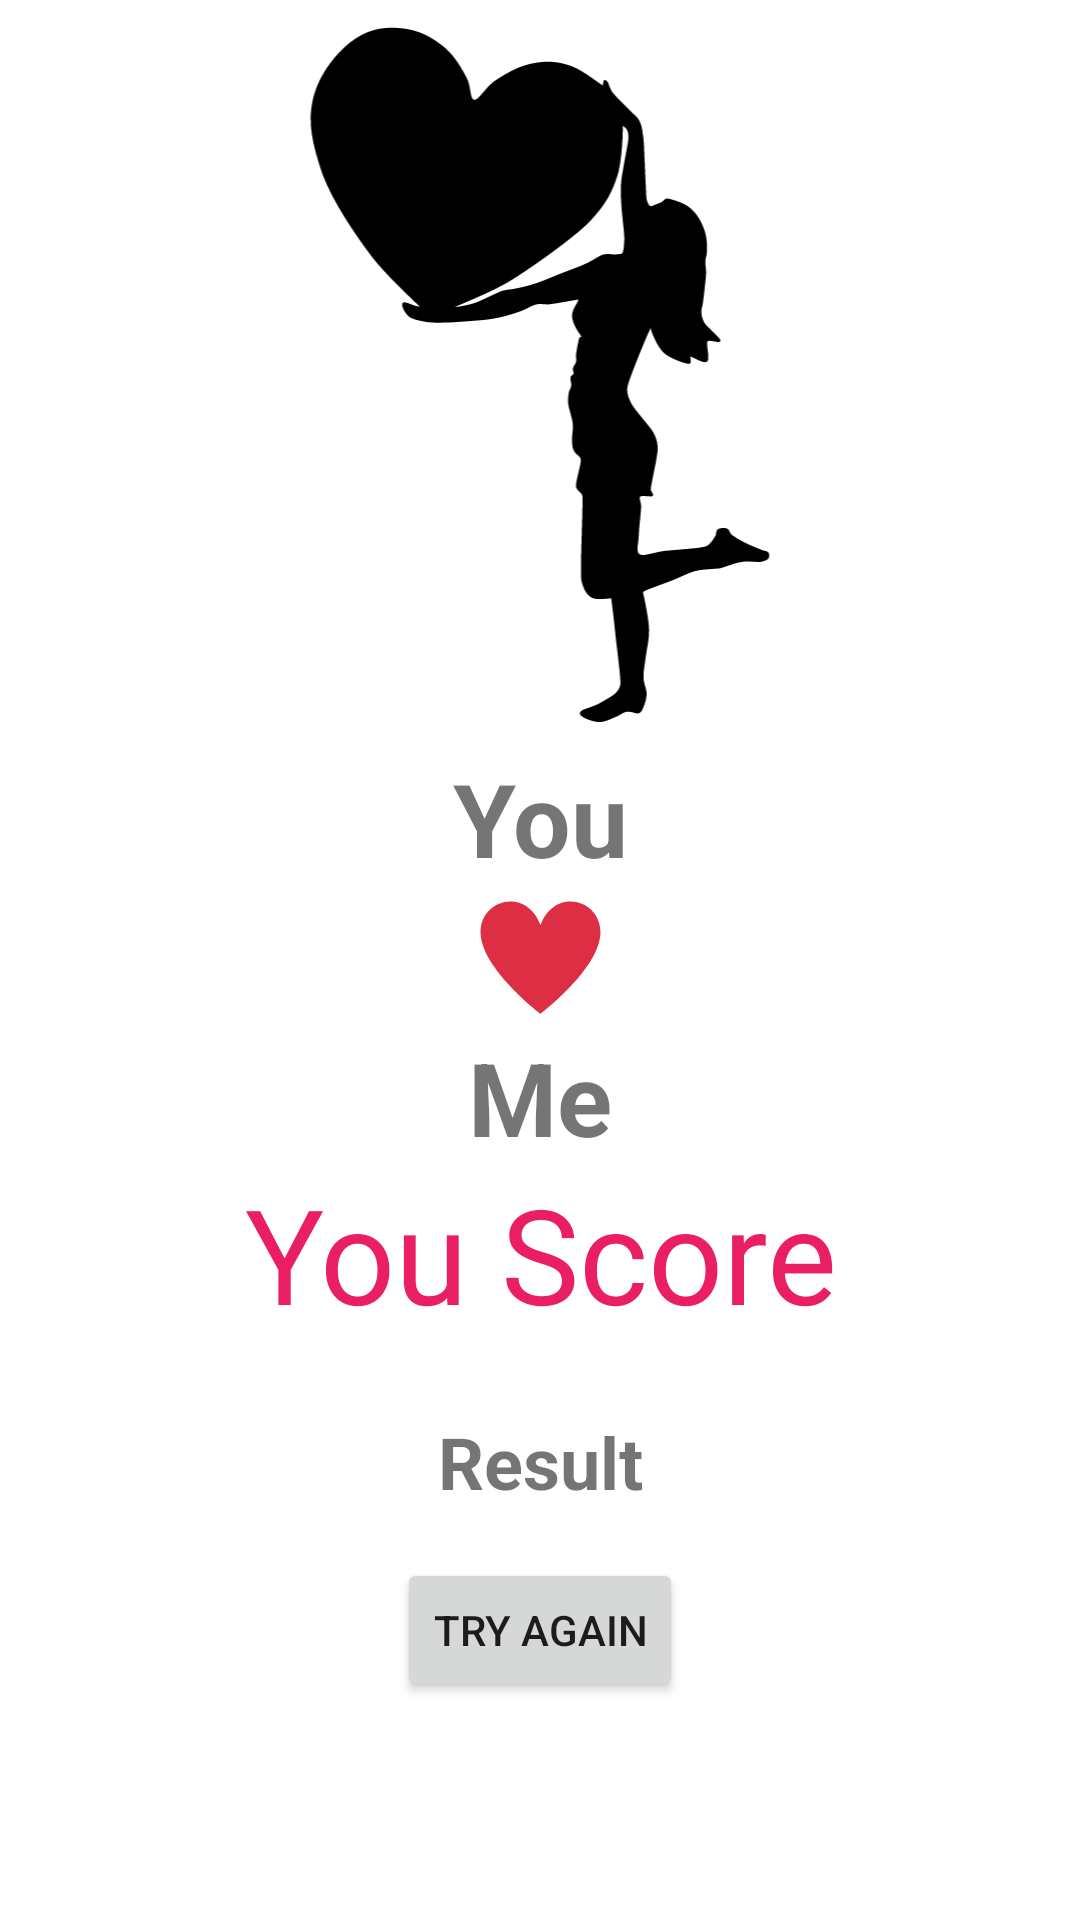

Point at icon controls on the screen. Image size 1080*1920, points as (x,y).
heart: (540,957)
